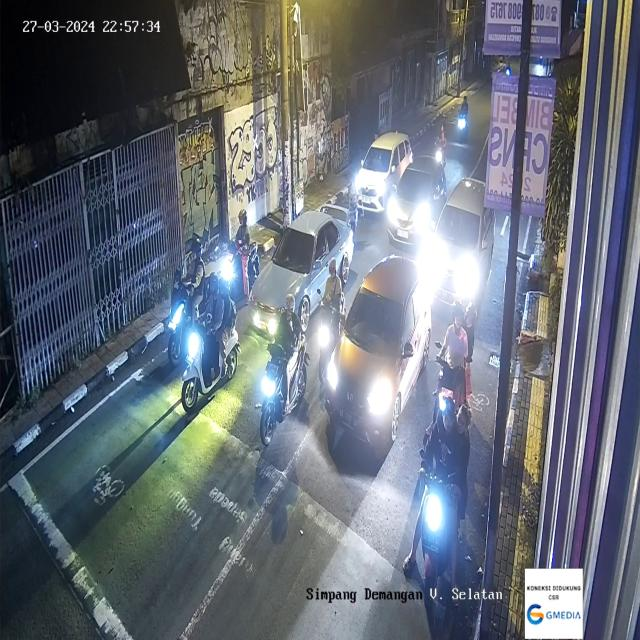car: (322, 258, 436, 458), (246, 204, 365, 327), (422, 178, 494, 298), (350, 130, 410, 222), (388, 151, 441, 250)
motorcycle: (416, 394, 469, 619), (182, 272, 241, 418), (264, 292, 308, 454), (164, 244, 214, 362), (439, 295, 475, 416), (222, 205, 262, 302), (319, 258, 348, 384), (436, 113, 450, 169), (459, 93, 468, 141)
